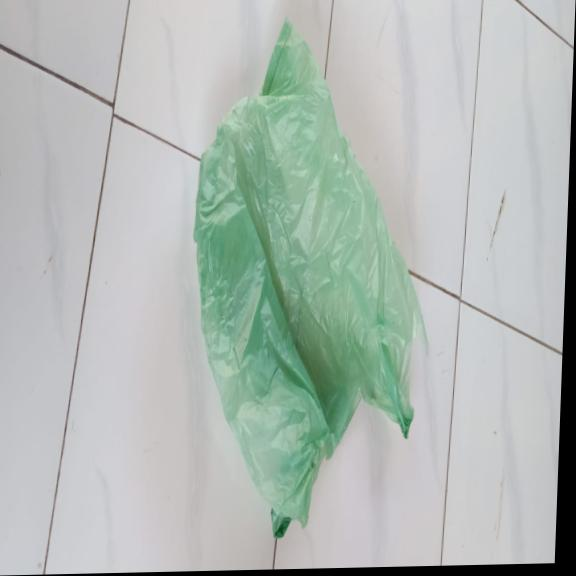Plastik: (181, 16, 442, 542)
